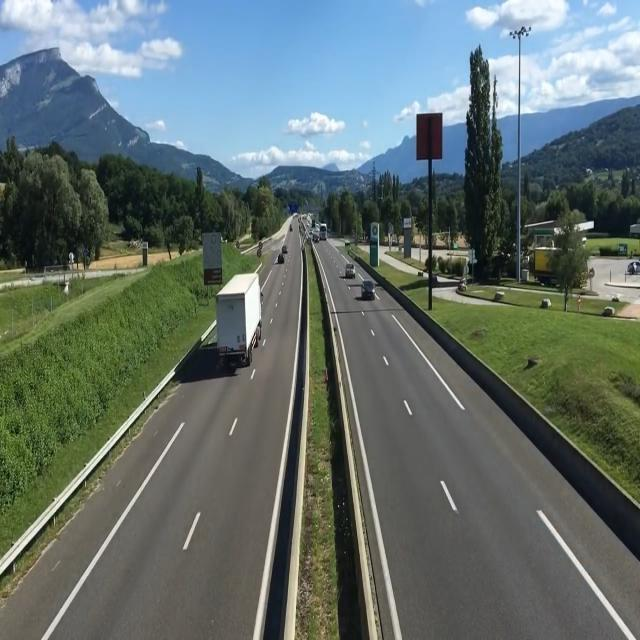Bus: (320, 223, 330, 242)
Car: (360, 279, 378, 299), (344, 261, 358, 280), (276, 252, 288, 266), (282, 243, 290, 254), (314, 235, 321, 245)
Truck: (218, 268, 262, 364)
